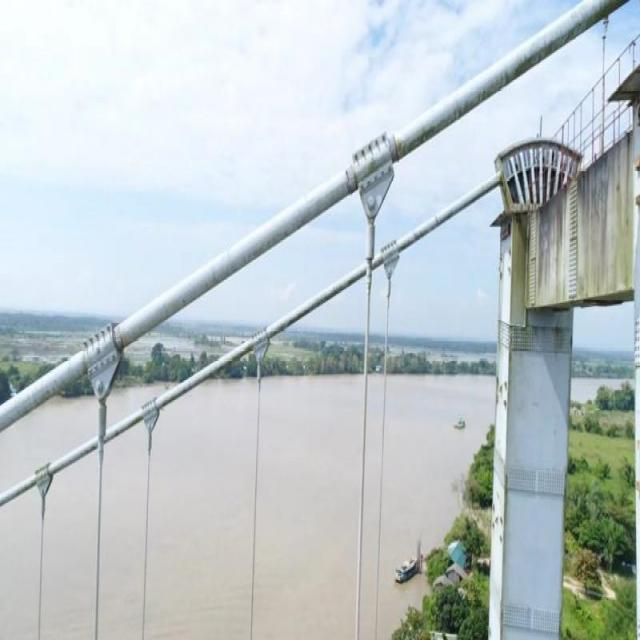Slippage: (344, 164, 358, 193), (388, 134, 399, 164), (113, 326, 124, 351)
